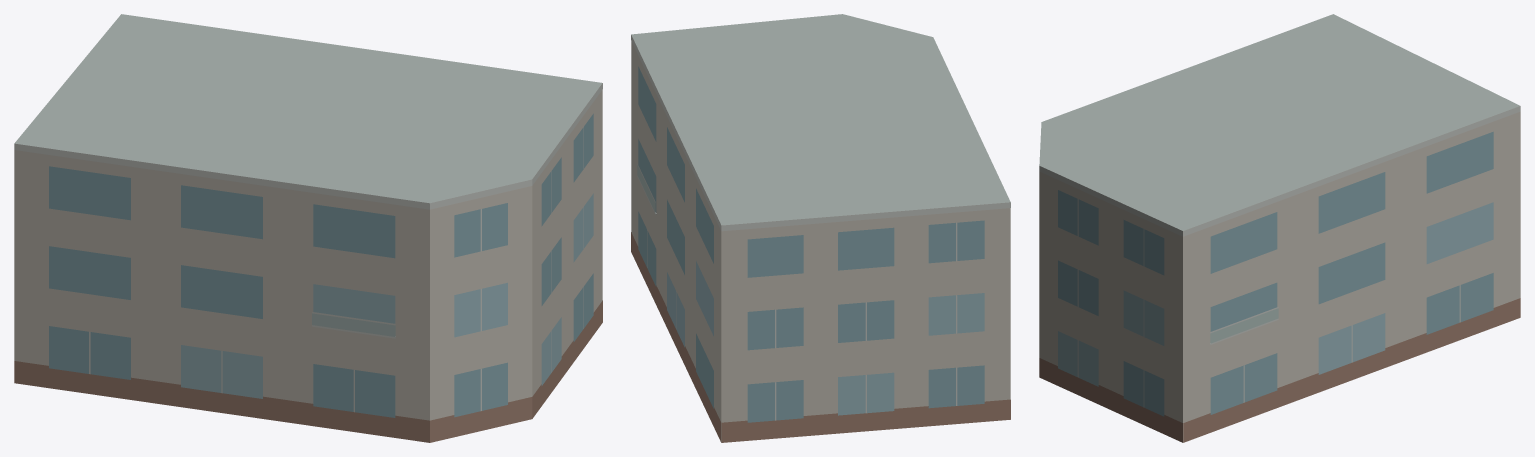
File: survey-upis-32889564.glb
3 views of the same model, side by side, from view 1: azimuth 30°, elevation 25°; view 2: azimuth 150°, elevation 25°; view 3: azimuth 270°, elevation 25° (orthographic). The views are drawn at different scales.
Visible parts, largest first — view 1: survey-upis-32889564.tmp; view 2: survey-upis-32889564.tmp; view 3: survey-upis-32889564.tmp.
Boxes of the visible parts, box(x1,y1,x2,y2) form: survey-upis-32889564.tmp: box(14, 14, 602, 442); survey-upis-32889564.tmp: box(631, 14, 1010, 442); survey-upis-32889564.tmp: box(1039, 14, 1520, 442).
Size of the model in its own units: 20.13 by 9.15 by 18.85.
